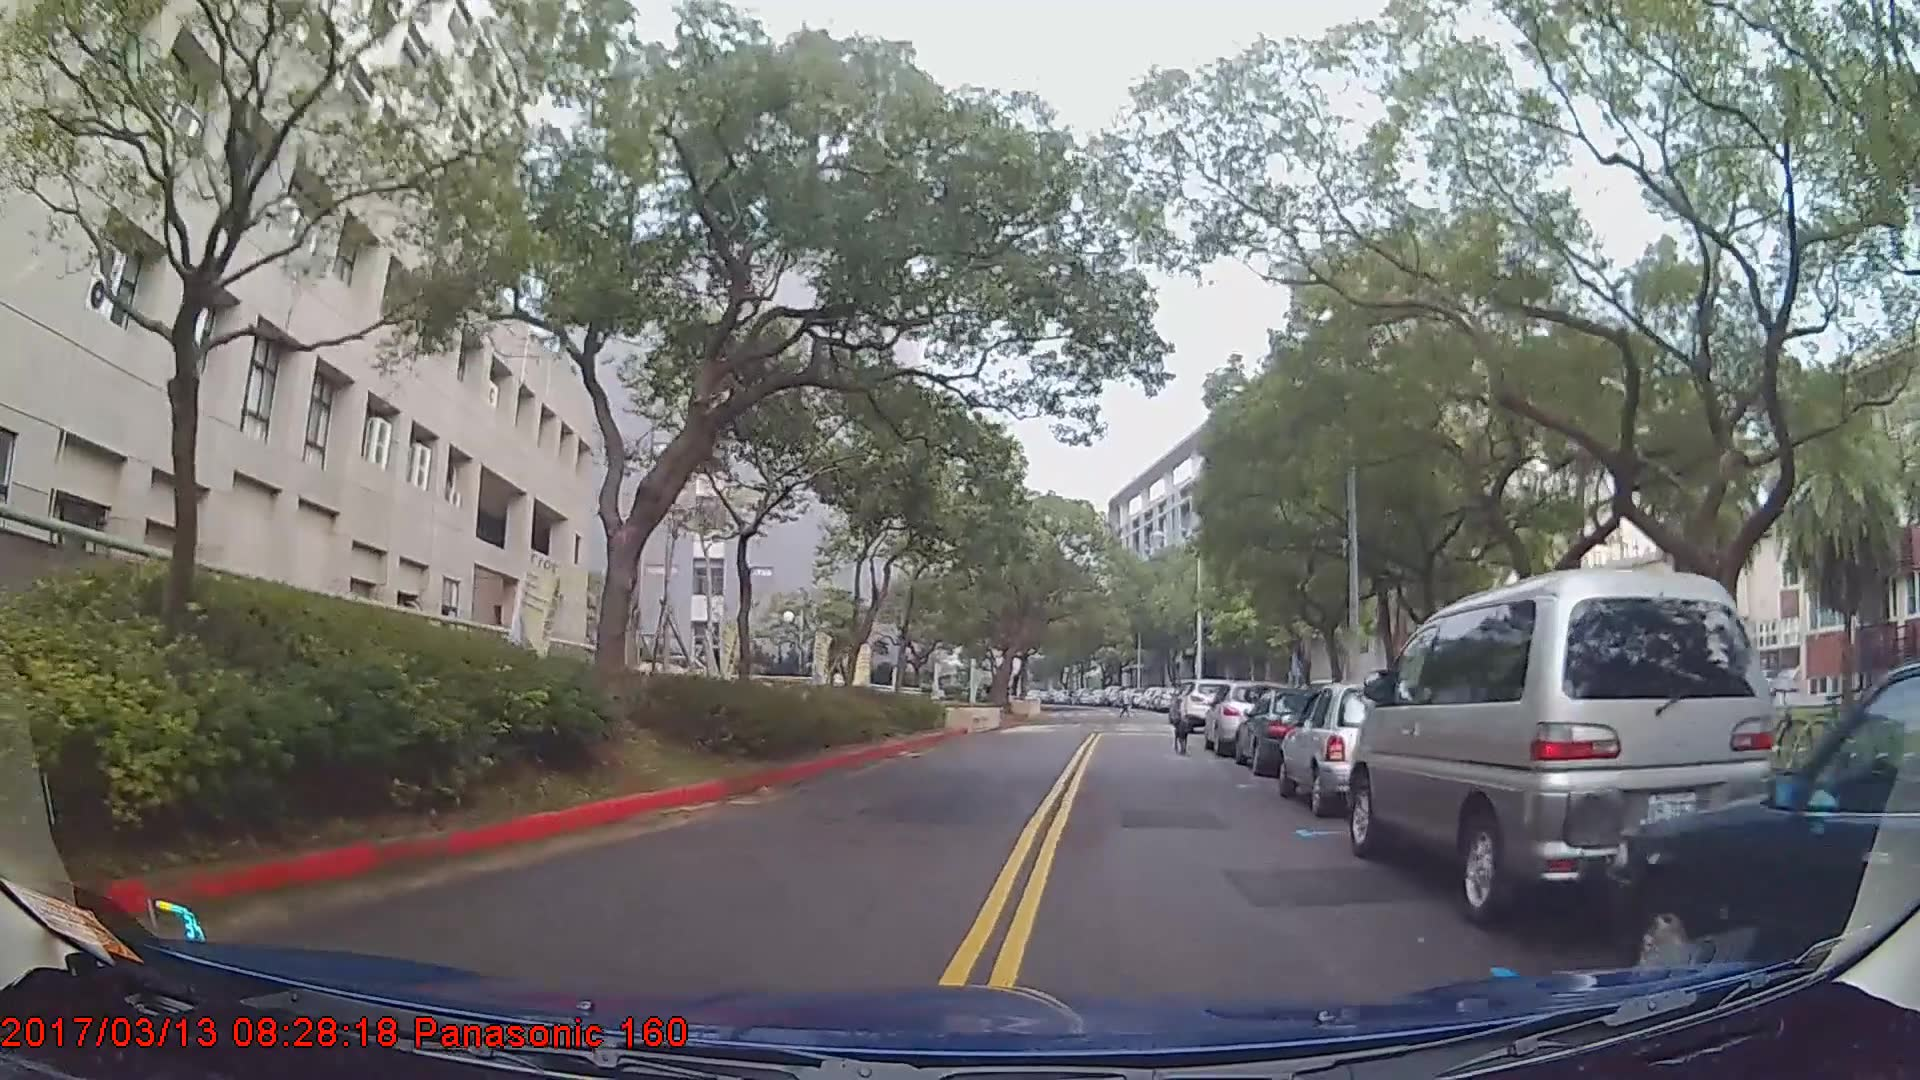vehicle: (1346, 564, 1780, 923), (1607, 659, 1920, 1027), (1275, 683, 1443, 818), (1203, 679, 1291, 754), (1178, 679, 1242, 735)
